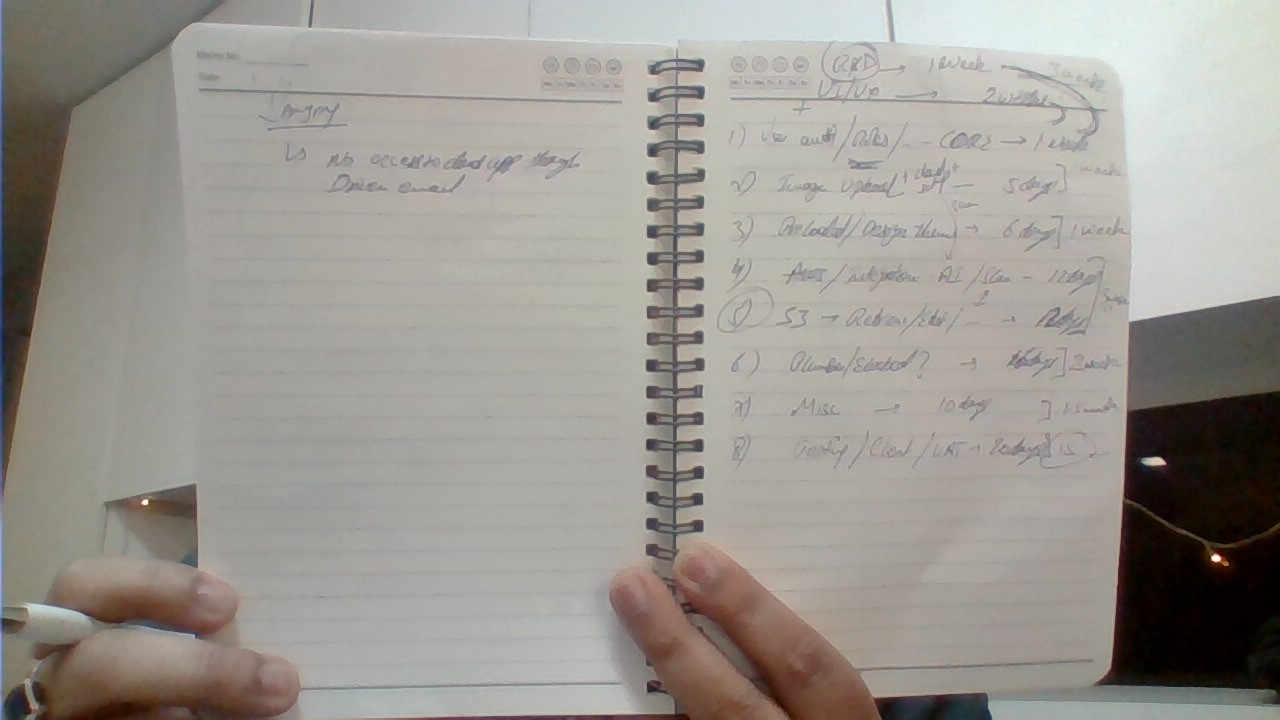notebook: (166, 26, 684, 720), (676, 22, 1116, 704)
